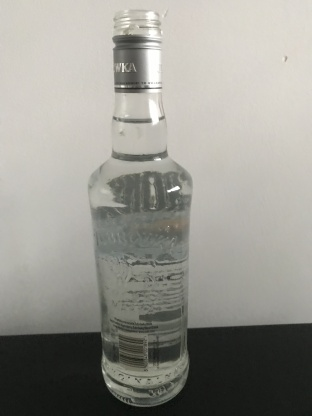nakretka: (110, 9, 164, 93)
